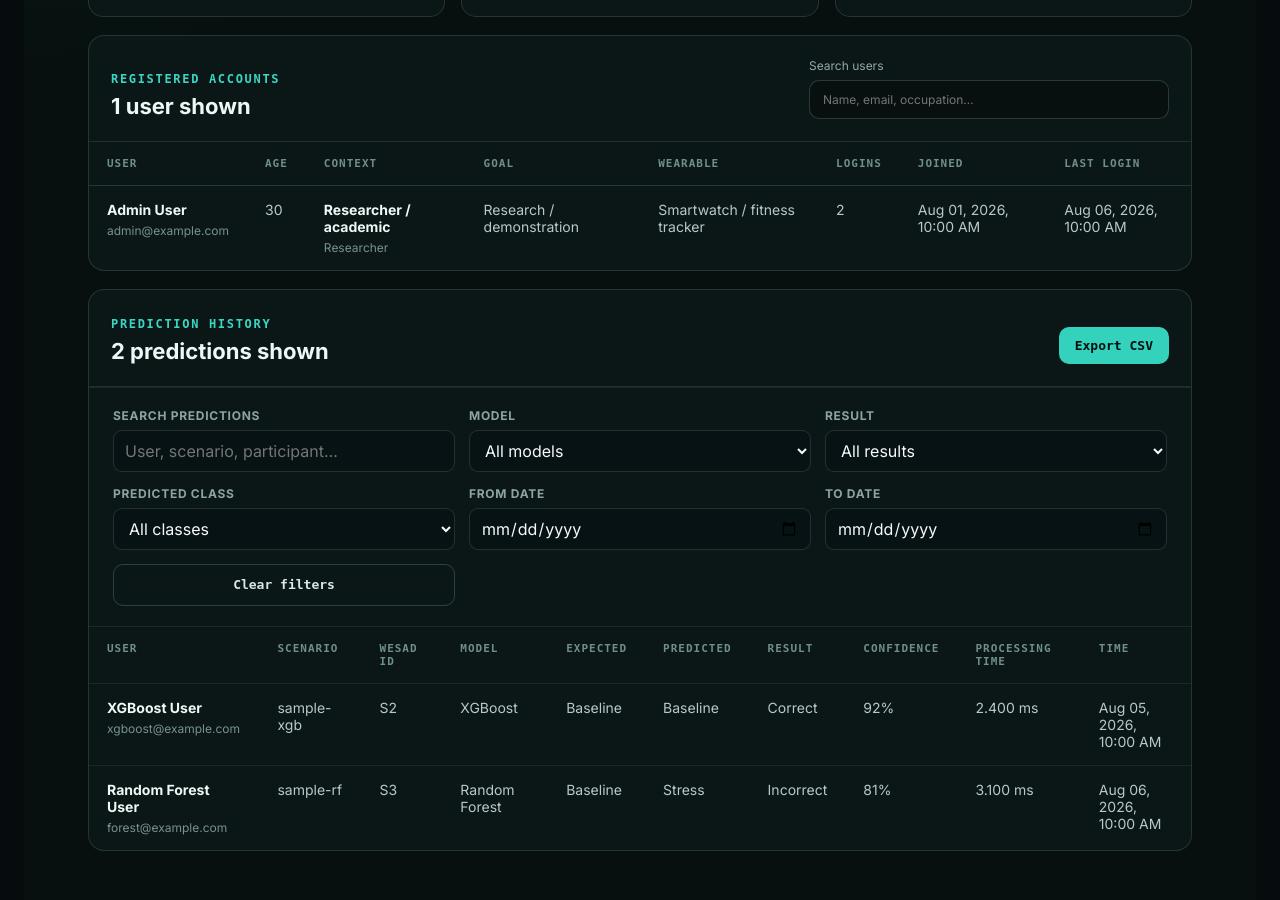
Test: AdminPage prediction filters › clear filters restores all predictions
(page scrolled)
Expected: the heading "2 predictions shown" is shown, [111,338,329,364]
Select "Correct" in the dropdown labelled "Result" at (996,451), box [825,430,1167,472]
(page scrolled)
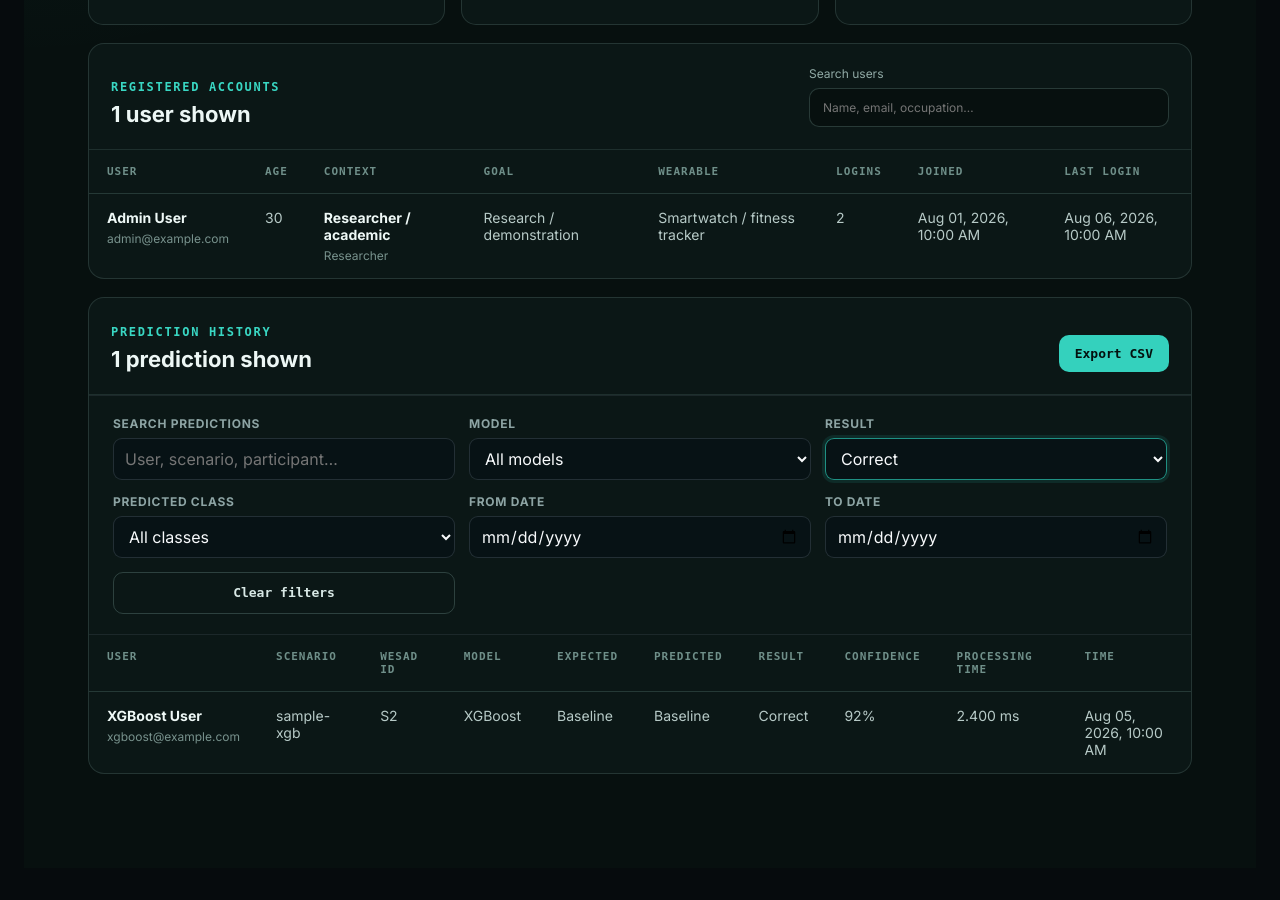
Expected: the heading "1 prediction shown" is shown, [111,346,312,372]
Expected: the text "Random Forest User" is gone
Click the button "Clear filters" at (284,593), box [113,572,455,614]
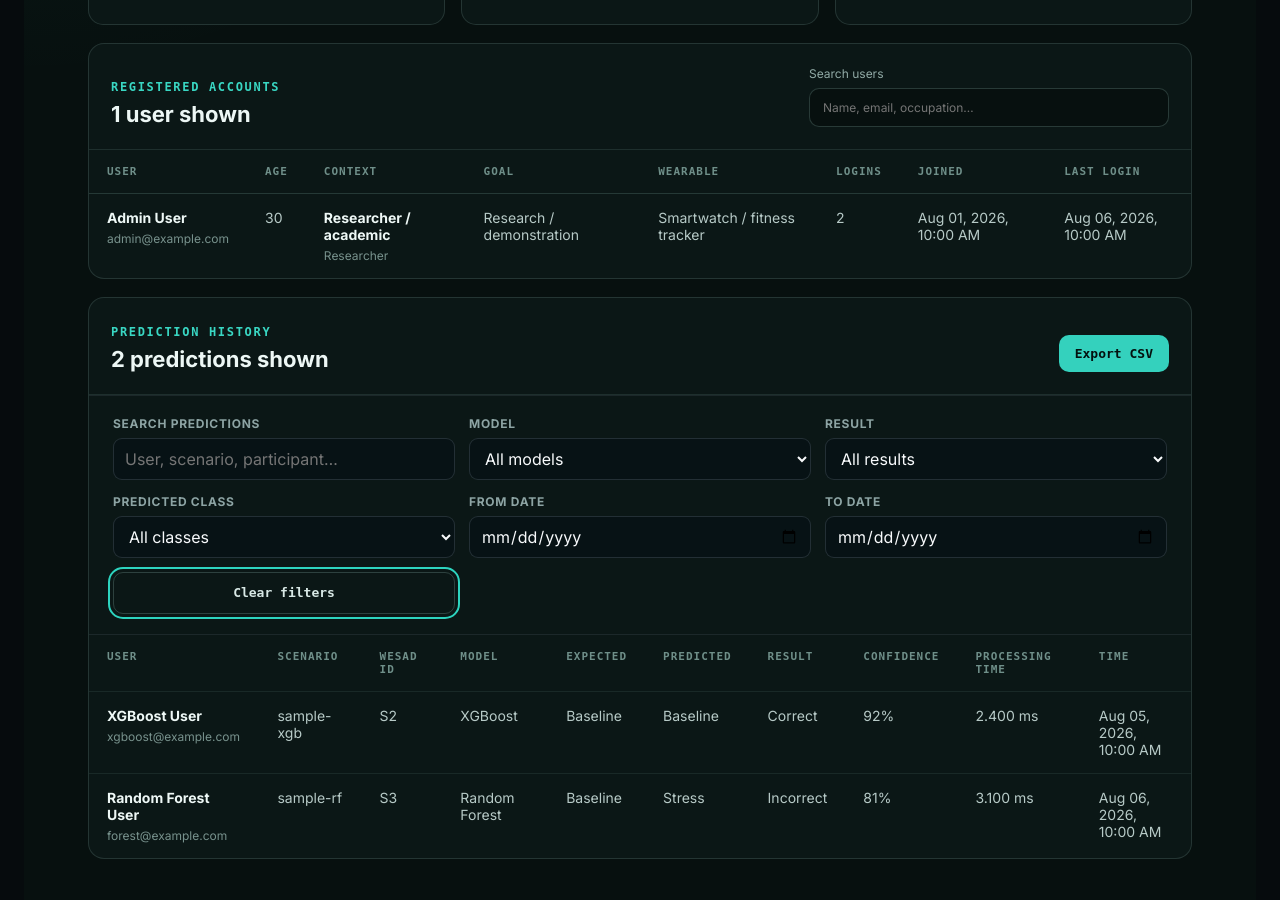
Expected: the text "XGBoost User" is shown, [107,707,202,724]
Expected: the heading "2 predictions shown" is shown, [111,346,329,372]
Expected: the text "Random Forest User" is shown, [107,789,210,823]
